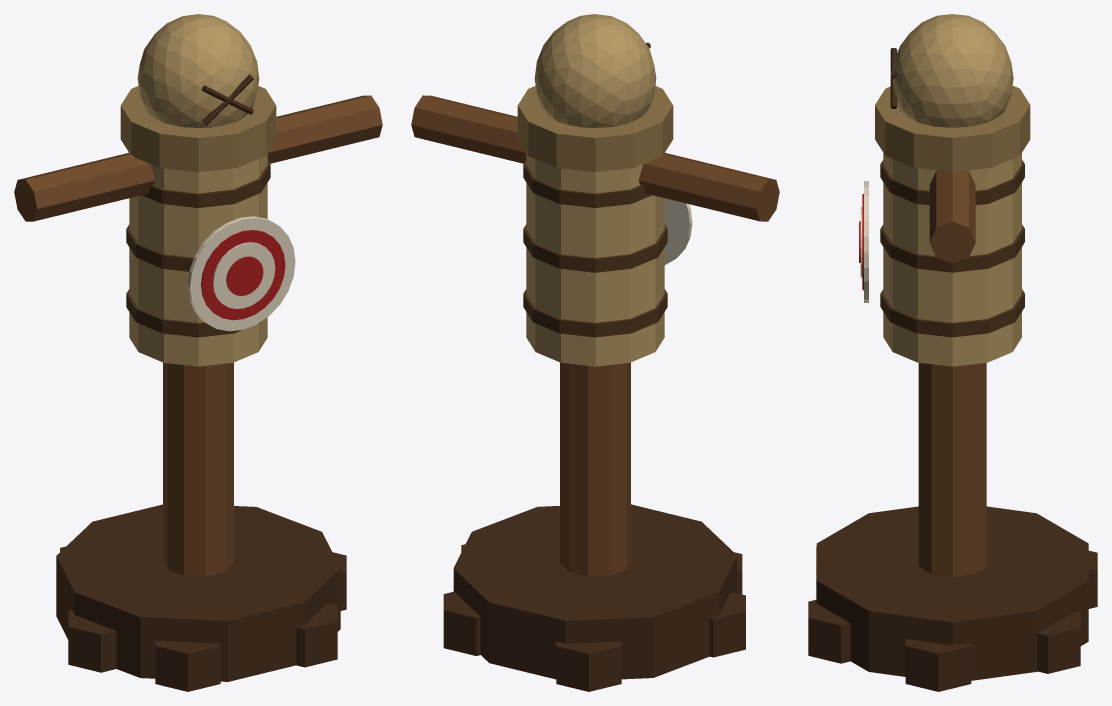
Rendered from training_dummy.obj.
3 renders of one model, left to right at view 1: azimuth 30°, elevation 25°; view 2: azimuth 150°, elevation 25°; view 3: azimuth 270°, elevation 25°, orthographic.
Parts seen in each view (by area): view 1: geometry_0, geometry_7, geometry_8, geometry_13, geometry_15, geometry_9, geometry_19, geometry_3, geometry_20, geometry_4, geometry_21, geometry_2 (+4 smaller); view 2: geometry_0, geometry_8, geometry_7, geometry_15, geometry_13, geometry_9, geometry_5, geometry_11, geometry_10, geometry_6, geometry_12, geometry_4 (+1 smaller); view 3: geometry_0, geometry_8, geometry_7, geometry_15, geometry_9, geometry_13, geometry_1, geometry_10, geometry_6, geometry_11, geometry_2, geometry_12 (+2 smaller).
Boxes of the visible parts, bbox=[...] form: geometry_0: bbox=[56, 504, 340, 681]; geometry_7: bbox=[163, 362, 233, 576]; geometry_8: bbox=[129, 153, 267, 366]; geometry_13: bbox=[14, 95, 382, 221]; geometry_15: bbox=[137, 14, 259, 127]; geometry_9: bbox=[120, 86, 276, 172]; geometry_19: bbox=[187, 216, 295, 331]; geometry_3: bbox=[155, 640, 220, 691]; geometry_20: bbox=[201, 230, 285, 320]; geometry_4: bbox=[68, 610, 116, 672]; geometry_21: bbox=[212, 242, 275, 308]; geometry_2: bbox=[296, 603, 337, 667]; geometry_0: bbox=[453, 504, 737, 679]; geometry_8: bbox=[526, 153, 664, 366]; geometry_7: bbox=[560, 362, 630, 576]; geometry_15: bbox=[534, 14, 656, 127]; geometry_13: bbox=[411, 95, 779, 221]; geometry_9: bbox=[517, 86, 673, 172]; geometry_5: bbox=[556, 641, 621, 691]; geometry_11: bbox=[523, 224, 667, 272]; geometry_10: bbox=[523, 289, 667, 337]; geometry_6: bbox=[443, 591, 480, 655]; geometry_12: bbox=[523, 160, 651, 207]; geometry_4: bbox=[709, 592, 745, 657]; geometry_0: bbox=[816, 506, 1088, 680]; geometry_8: bbox=[883, 153, 1021, 366]; geometry_7: bbox=[918, 363, 986, 577]; geometry_15: bbox=[892, 14, 1013, 127]; geometry_9: bbox=[875, 86, 1030, 171]; geometry_13: bbox=[929, 170, 975, 263]; geometry_1: bbox=[905, 639, 971, 691]; geometry_10: bbox=[880, 289, 1024, 337]; geometry_6: bbox=[1037, 611, 1080, 673]; geometry_11: bbox=[880, 224, 1024, 272]; geometry_2: bbox=[808, 599, 850, 663]; geometry_12: bbox=[880, 160, 1024, 205].
Bounding box in the file's own units: 0.95 × 1.59 × 0.6891.
